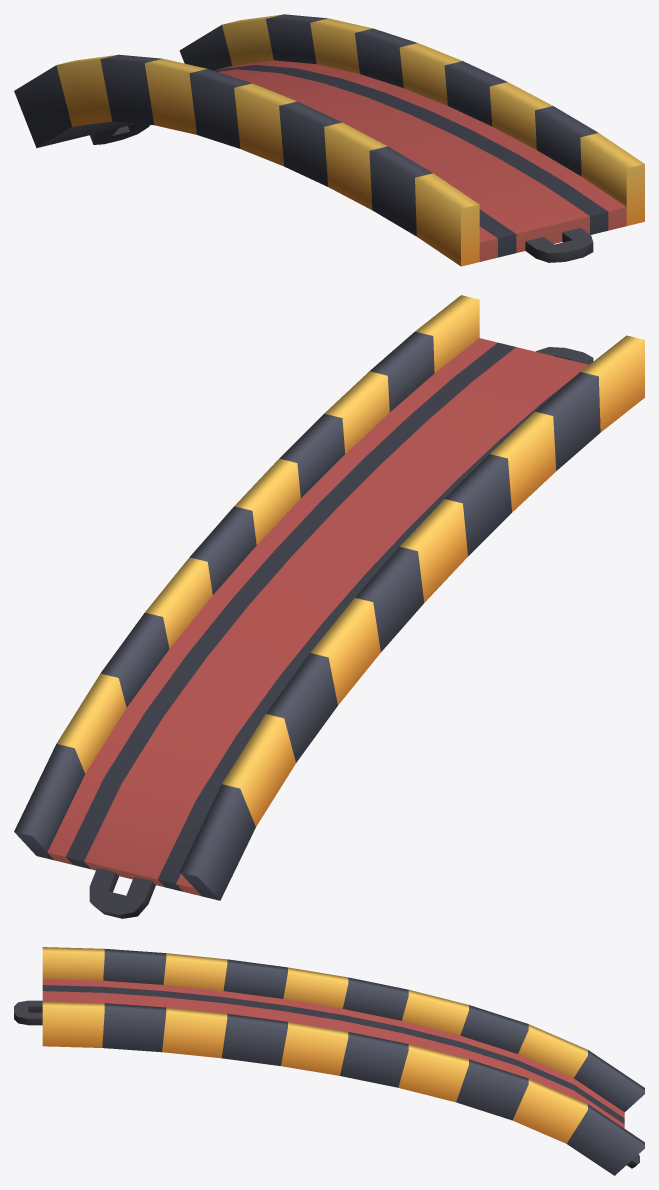
Rendered from track-road-narrow-straight-hill-end.fbx.
3 views of the same model, one above another, from view 1: azimuth 30°, elevation 25°; view 2: azimuth 150°, elevation 25°; view 3: azimuth 270°, elevation 25° (orthographic). The views are drawn at different scales.
Parts seen in each view (by area): view 1: track-road-narrow-straight-hill-end; view 2: track-road-narrow-straight-hill-end; view 3: track-road-narrow-straight-hill-end.
Part boxes in pixels (bbox=[...]): track-road-narrow-straight-hill-end: bbox=[14, 14, 644, 266]; track-road-narrow-straight-hill-end: bbox=[14, 295, 644, 918]; track-road-narrow-straight-hill-end: bbox=[14, 947, 644, 1175].
Size of the model in its own units: 100 by 144 by 441.
